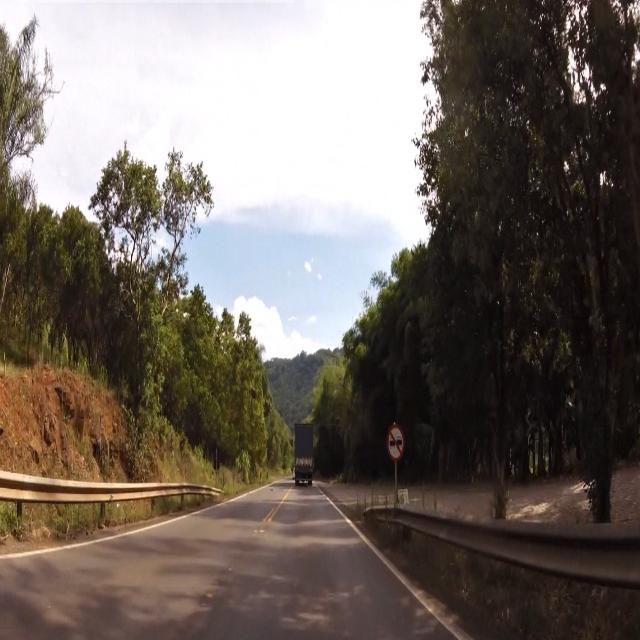R-7: (385, 425, 408, 465)
